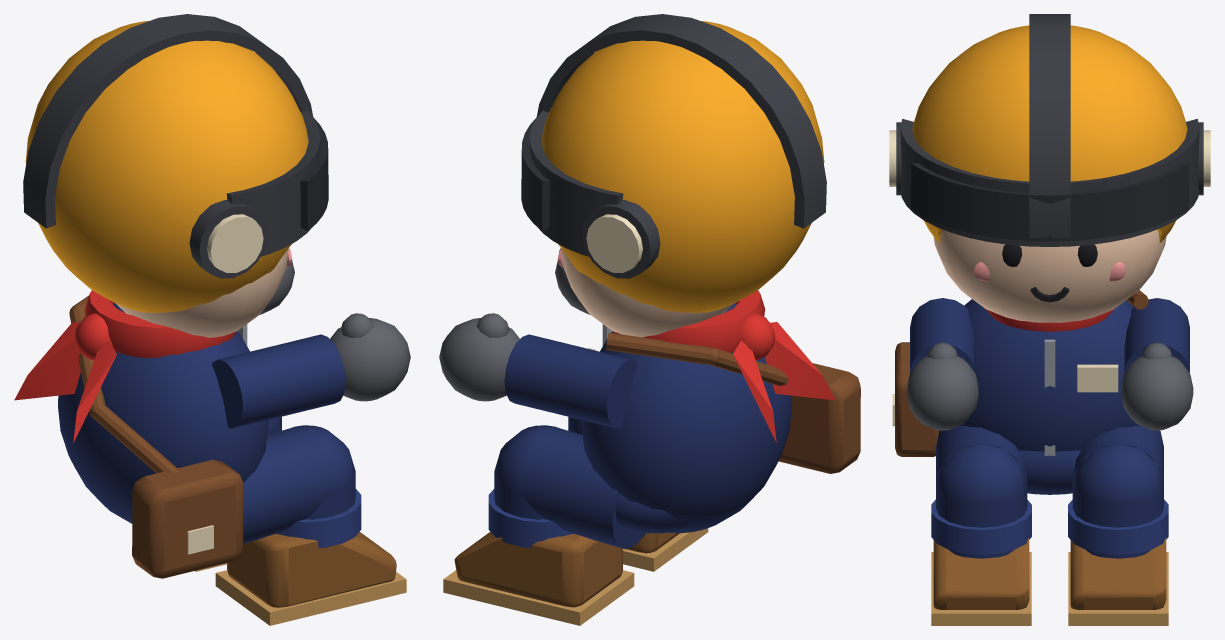
Rendered from pip.glb.
3 views of the same model, side by side, from view 1: azimuth 30°, elevation 25°; view 2: azimuth 150°, elevation 25°; view 3: azimuth 270°, elevation 25° (orthographic). The views are drawn at different scales.
Parts seen in each view (by area): view 1: pip; view 2: pip; view 3: pip.
Boxes of the visible parts, x1,y1,x2,y2 form: pip: (14,14,410,625); pip: (439,14,860,625); pip: (889,14,1210,625).
Bounding box in the file's own units: 0.7356 × 1.26 × 0.704.
